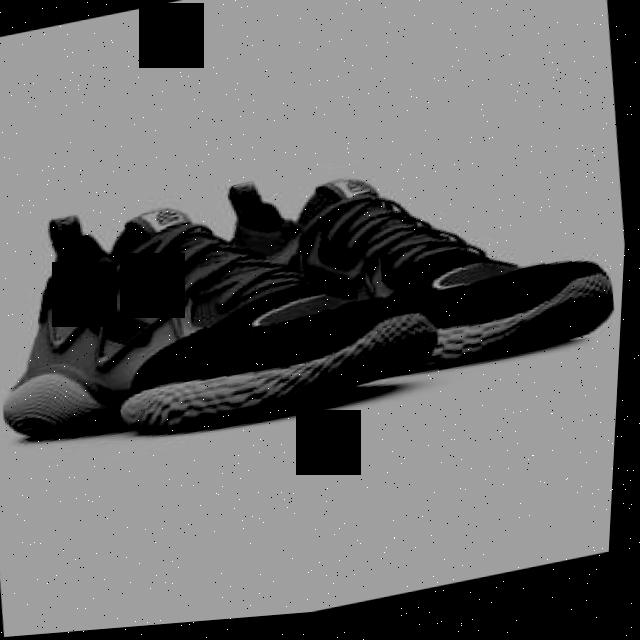shoe: (0, 151, 452, 465), (185, 118, 629, 420)
